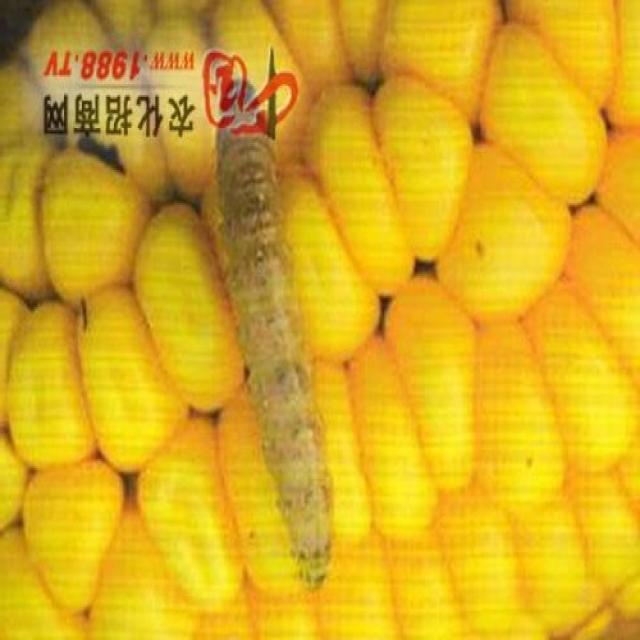peach borer: (203, 81, 335, 591)
